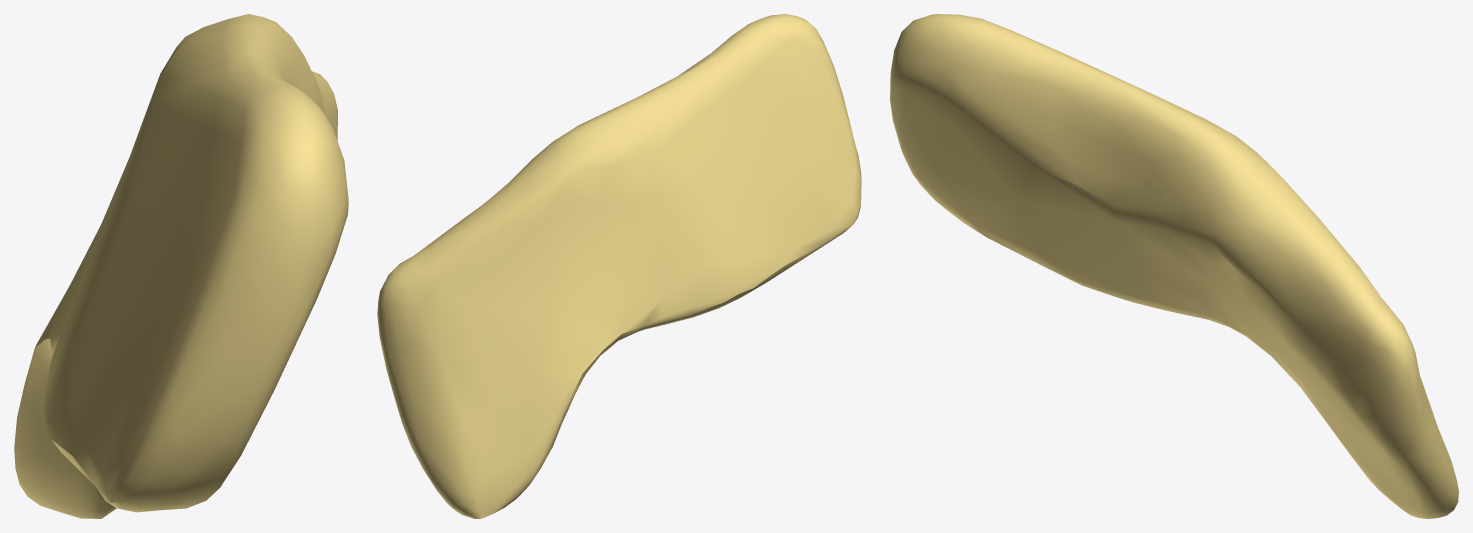
Rendered from fma62171-l_mm2794.glb.
3 renders of one model, left to right at view 1: azimuth 30°, elevation 25°; view 2: azimuth 150°, elevation 25°; view 3: azimuth 270°, elevation 25°, orthographic. The views are drawn at different scales.
Parts seen in each view (by area): view 1: FMA62171-L_MM2794; view 2: FMA62171-L_MM2794; view 3: FMA62171-L_MM2794.
Part boxes in pixels (x1,y1,x2,y2): FMA62171-L_MM2794: (14,14,348,518); FMA62171-L_MM2794: (377,14,861,518); FMA62171-L_MM2794: (890,14,1458,518).
Bounding box in the file's own units: 0.00404 × 0.00492 × 0.00575.
